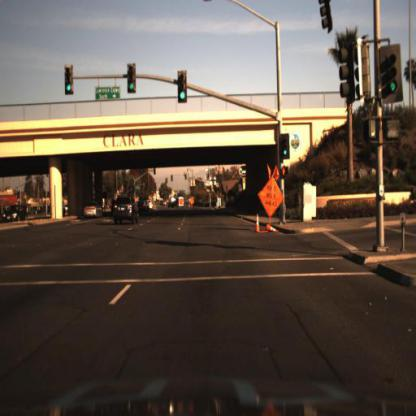car: (113, 193, 141, 230), (4, 203, 29, 223), (83, 203, 103, 221), (166, 197, 187, 213)
trafficLight-Green: (63, 61, 76, 99), (124, 63, 136, 99), (178, 71, 188, 107), (281, 133, 293, 163), (64, 65, 75, 97), (178, 69, 186, 104), (128, 64, 137, 95), (283, 135, 292, 162)
